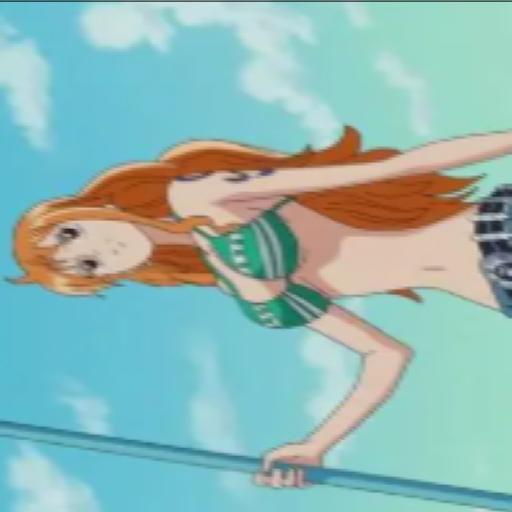Nami: (3, 103, 512, 493)
